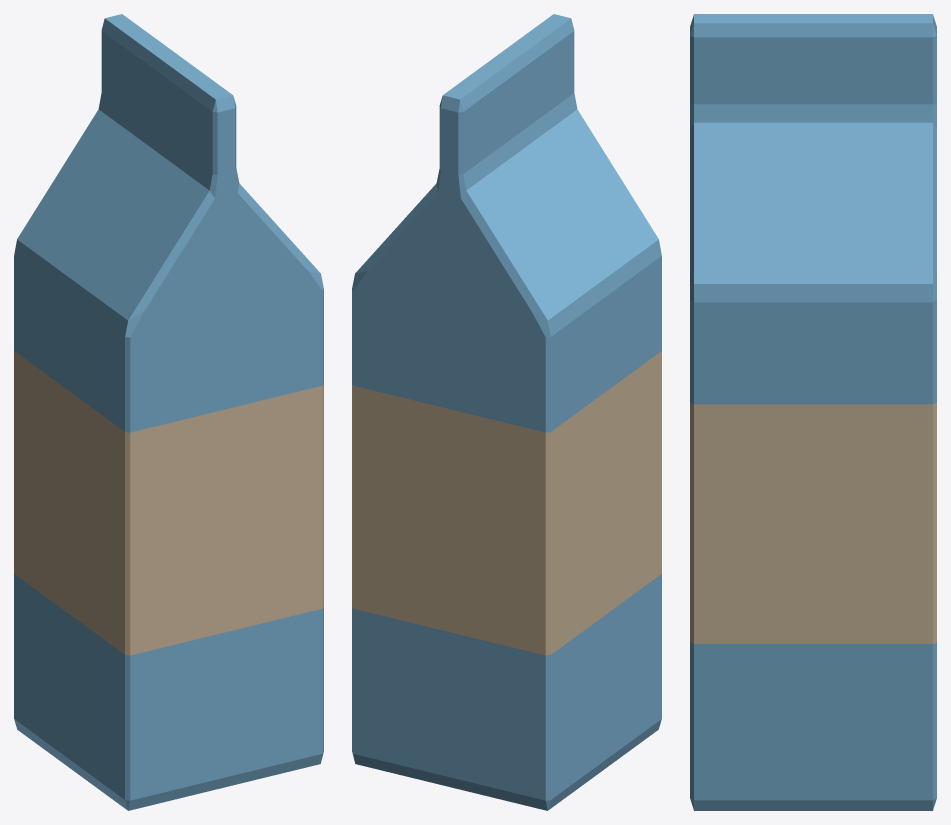
File: milk_box_1_Partyassets.fbx
3 renders of one model, left to right at view 1: azimuth 30°, elevation 25°; view 2: azimuth 150°, elevation 25°; view 3: azimuth 270°, elevation 25°, orthographic. The views are drawn at different scales.
Parts seen in each view (by area): view 1: milk_box_1_Partyassets; view 2: milk_box_1_Partyassets; view 3: milk_box_1_Partyassets.
Boxes of the visible parts, x1,y1,x2,y2 form: milk_box_1_Partyassets: [14, 14, 323, 810]; milk_box_1_Partyassets: [352, 14, 661, 810]; milk_box_1_Partyassets: [690, 14, 936, 810].
Size of the model in its own units: 8.31 by 27.58 by 8.31.
